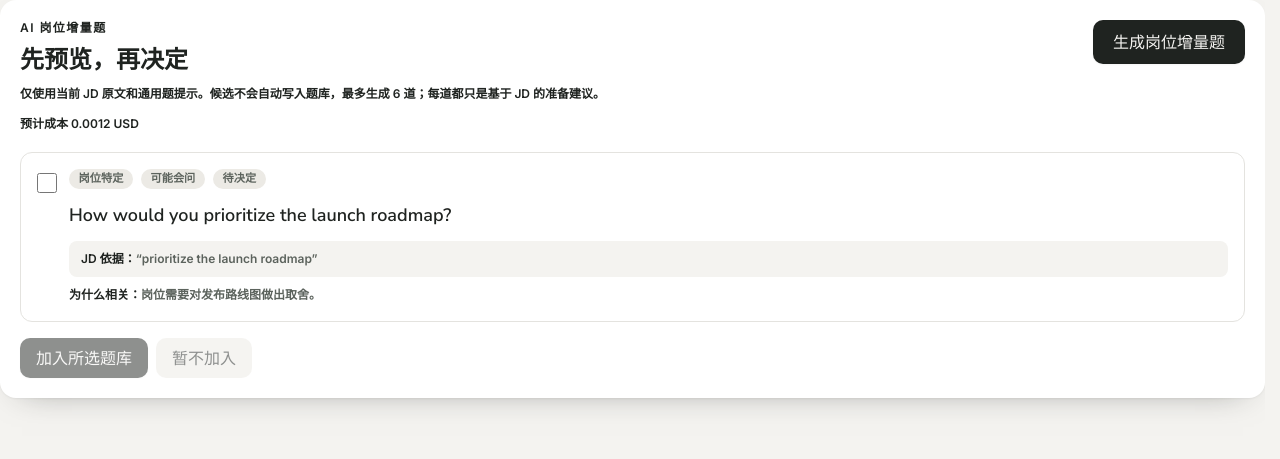
Test: InterviewQuestionGenerationControl › does not mark every selected candidate rejected when the RPC count is partial
Click the checkbox named "How would you prioritize the launch roadmap?": (47, 183) [37,173,57,193]
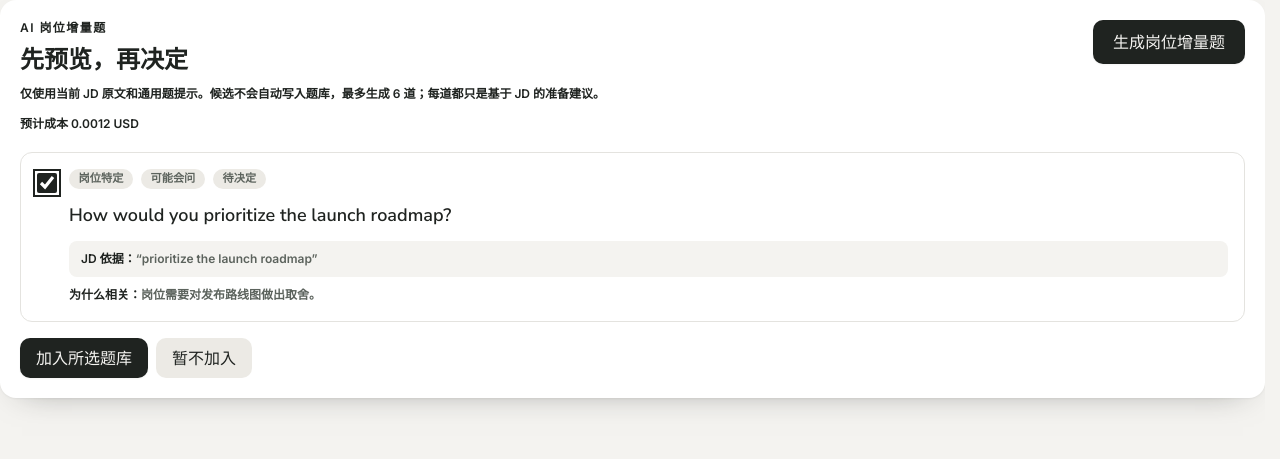
Click the button "暂不加入": (204, 358) [156,338,252,378]
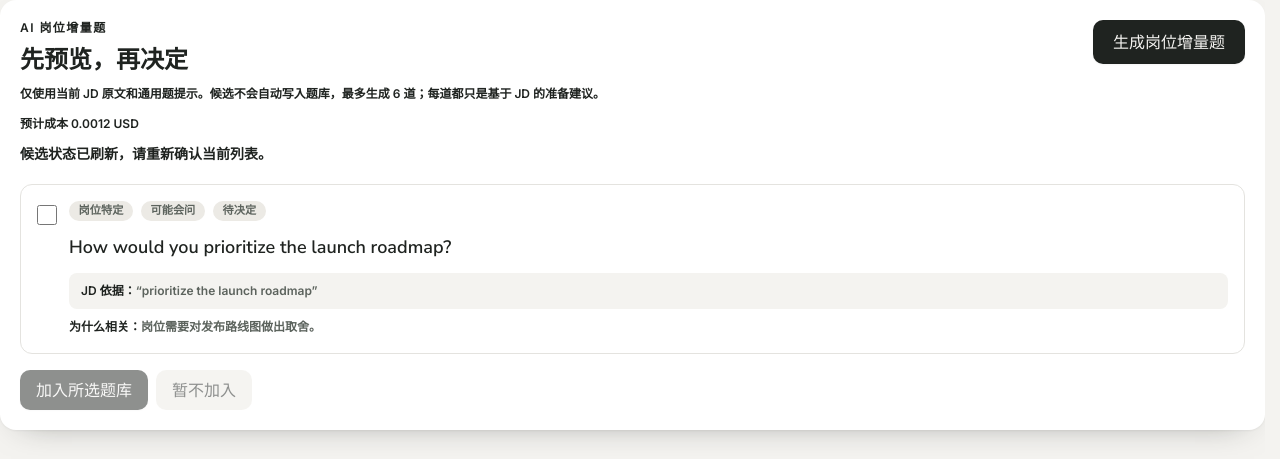
expect the text "待决定" is shown: met, box [213,201,266,221]
expect the text "候选状态已刷新，请重新确认当前列表。" is shown: met, box [20,145,272,162]
